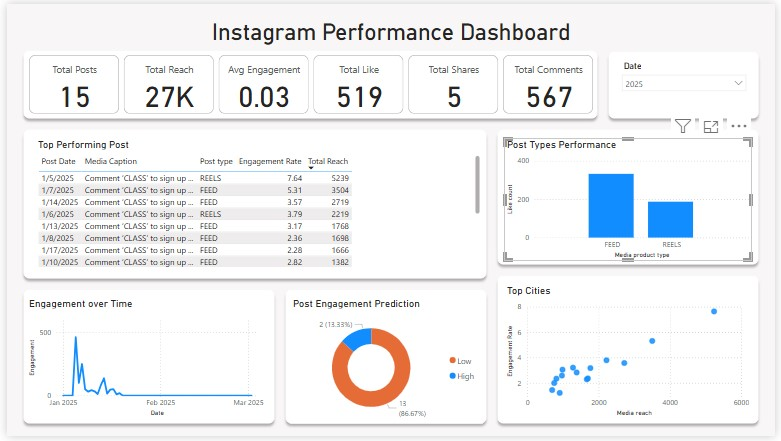

What the dashboard file says about the page in this screenshot:
{"tool":"powerbi","page":{"name":"Instagram Insight","canvas":[1280,720],"ordinal":0},"visuals":[{"type":"textbox","box":[5.7,18.6,1270,61.4],"z":0},{"type":"shape","box":[18.3,68.3,975,131.7],"z":1000},{"type":"cardVisual","fields":{"Data":["Instagram Post Engagement.Total Posts","Instagram Post Engagement.Total Reach","Instagram Post Engagement.Average Engagement Rate","Sum(Instagram Post Engagement.Like count)","Sum(Instagram Profile Overview.Shares)","Sum(Instagram Post Engagement.Comments count)"]},"box":[31.7,80,950,108.3],"z":2000},{"type":"shape","box":[808.3,200,453.3,243.3],"z":3000},{"type":"shape","box":[808.3,443.3,453.3,265],"z":4000},{"type":"shape","box":[18.3,200,790,266.7],"z":5000},{"type":"shape","box":[455,466.7,353.3,241.7],"z":6000},{"type":"shape","box":[18.3,466.7,436.7,241.7],"z":7000},{"type":"lineChart","title":"Engagement over Time","fields":{"Category":["DateTable.Date"],"Y":["Sum(Instagram Profile Overview.Engagement)"]},"box":[31.7,488.3,406.7,203.3],"z":8000},{"type":"clusteredColumnChart","title":"Post Types Performance","fields":{"Y":["Sum(Instagram Post Engagement.Like count)"],"Category":["Instagram Post Engagement.Media product type"]},"box":[828.3,223.3,413.3,205],"z":9000},{"type":"shape","box":[992.9,70,268.6,130],"z":10000},{"type":"slicer","fields":{"Values":["DateTable.Date.Variation.Date Hierarchy.Year","DateTable.Date.Variation.Date Hierarchy.Month","DateTable.Date.Variation.Date Hierarchy.Day"]},"box":[1015,90,226.7,91.7],"z":11000},{"type":"donutChart","title":"Post Engagement Prediction","fields":{"Category":["Instagram Post Engagement.Engagement Prediction"],"Y":["CountNonNull(Instagram Post Engagement.Media ID)"]},"box":[471.4,488.6,321.4,211.4],"z":12000},{"type":"tableEx","title":"Top Performing Post","fields":{"Values":["DateTable.Date","Instagram Post Engagement.Media Caption","Instagram Post Engagement.Media product type","Instagram Post Engagement.Engagement Rate (%)","Instagram Post Engagement.Total Reach"]},"box":[46.7,223.3,746.7,220],"z":13000},{"type":"scatterChart","title":"Top Cities","fields":{"X":["Instagram Post Engagement.Media reach"],"Y":["Instagram Post Engagement.Engagement Rate (%)"]},"box":[828.3,466.7,413.3,225],"z":15000}]}

Visuals, with their boxes in screenshot pixels (x1, y1, x2, y2), scaled from the page's 1280x720 canvas onto the 781x441 screenshot:
textbox: 3 11 778 49
shape: 11 42 606 123
cardVisual - Instagram Post Engagement.Total Posts x Instagram Post Engagement.Total Reach: 19 49 599 115
shape: 493 123 770 272
shape: 493 272 770 434
shape: 11 123 493 286
shape: 278 286 493 434
shape: 11 286 278 434
"Engagement over Time" lineChart: 19 299 267 424
"Post Types Performance" clusteredColumnChart: 505 137 758 262
shape: 606 43 770 123
slicer - DateTable.Date.Variation.Date Hierarchy.Year x DateTable.Date.Variation.Date Hierarchy.Month: 619 55 758 111
"Post Engagement Prediction" donutChart: 288 299 484 429
"Top Performing Post" tableEx: 28 137 484 272
"Top Cities" scatterChart: 505 286 758 424
